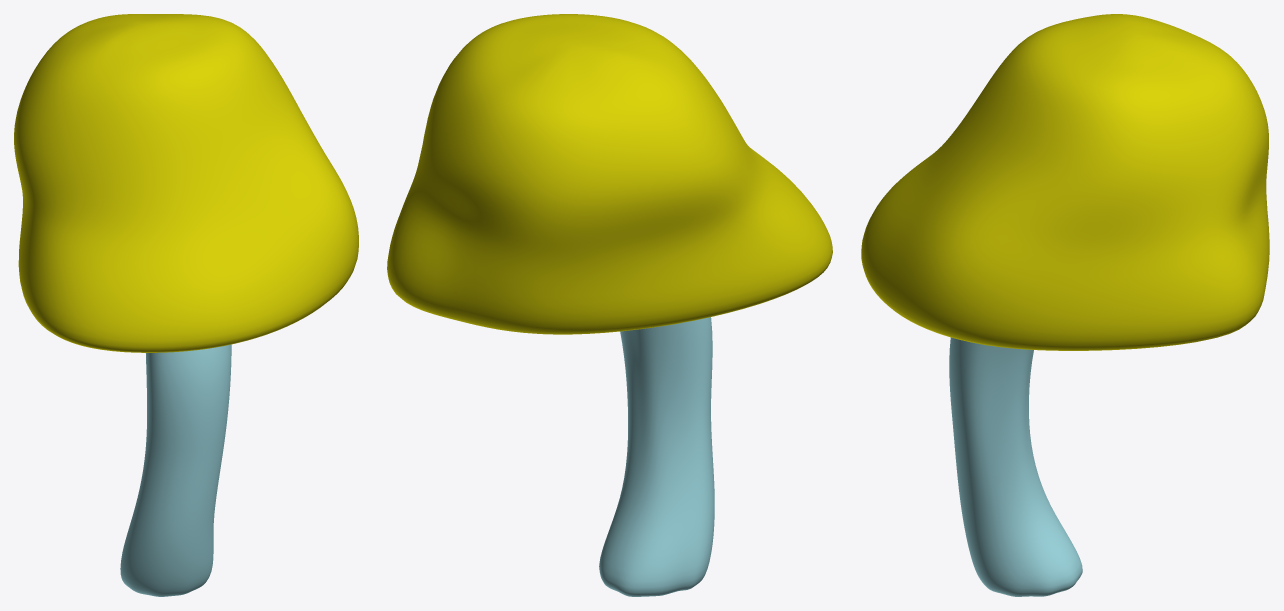
The model's file is YellowShroom.fbx.
3 renders of one model, left to right at view 1: azimuth 30°, elevation 25°; view 2: azimuth 150°, elevation 25°; view 3: azimuth 270°, elevation 25°, orthographic. The views are drawn at different scales.
Visible parts, largest first — view 1: pSphere2; view 2: pSphere2; view 3: pSphere2.
Part boxes in pixels (x1=…): pSphere2: x1=14, y1=14, x2=358, y2=596; pSphere2: x1=387, y1=14, x2=832, y2=596; pSphere2: x1=861, y1=14, x2=1269, y2=596.
Size of the model in its own units: 333 by 528 by 348.
